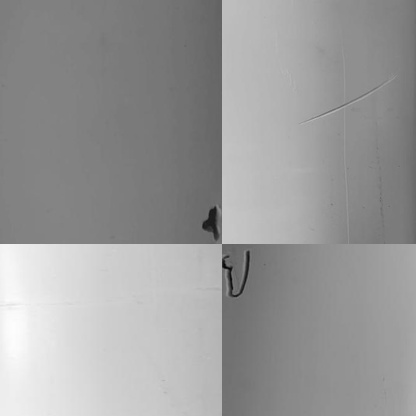fengxi: (220, 247, 256, 306)
kongdong: (200, 200, 220, 239)
sunshang: (304, 68, 396, 125)
